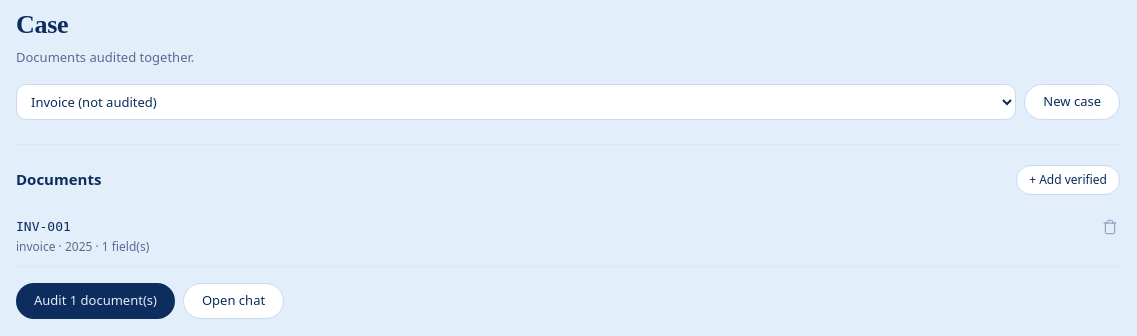
Test case: CasePanel › audits the case's documents and shows the summary
Expected: the text "INV-001" is shown, [16,218,71,234]
Click the button "Audit 1 document(s)" at (96, 301), box [16,283,175,319]
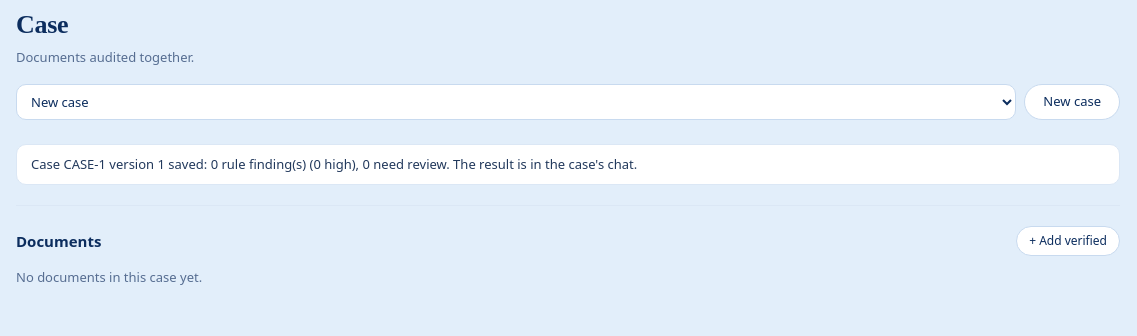
Expected: the text "Case CASE-1 version 1 saved" is shown, [31,154,637,172]
